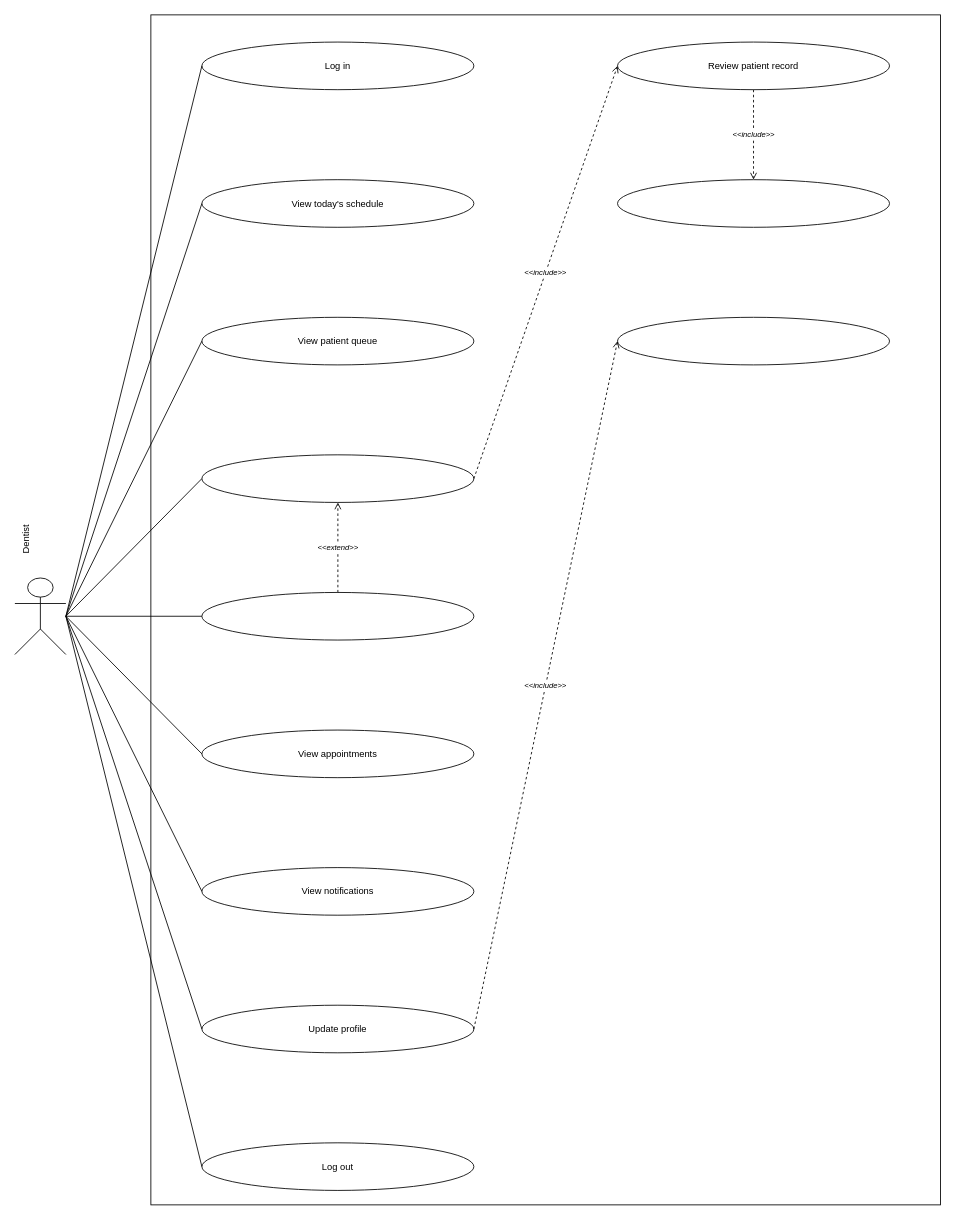
The diagram is 955 pixels wide and 1220 high, and some of its shapes have lost their labels. The centre of each missing label's shape, as x and y in pixels:
"Change password" belongs at point 753,340.
"Complete patient visit" belongs at point 337,616.
"Start serving next patient" belongs at point 337,478.
"View patient appointment history" belongs at point 753,203.
